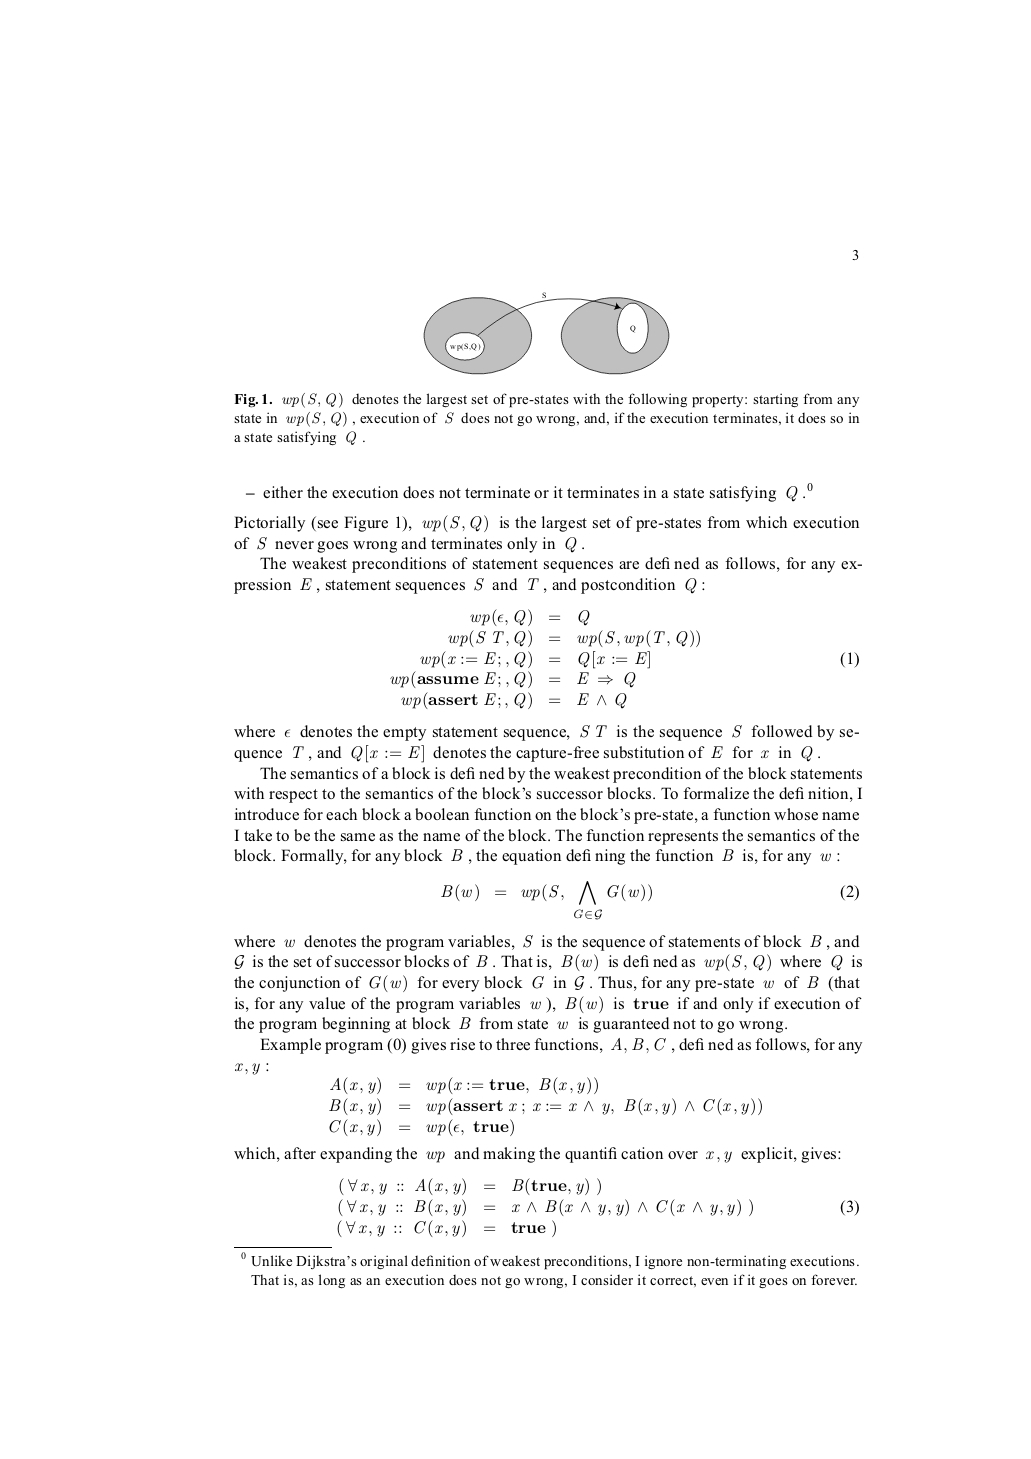figure: (423, 291, 669, 375)
formula: (441, 881, 858, 919), (338, 1198, 858, 1217), (420, 650, 858, 669), (329, 1096, 761, 1115), (330, 1076, 597, 1095), (339, 1177, 600, 1196), (449, 629, 698, 648), (391, 670, 635, 689), (401, 690, 626, 711), (337, 1219, 555, 1238), (329, 1118, 513, 1137), (470, 608, 589, 627)
